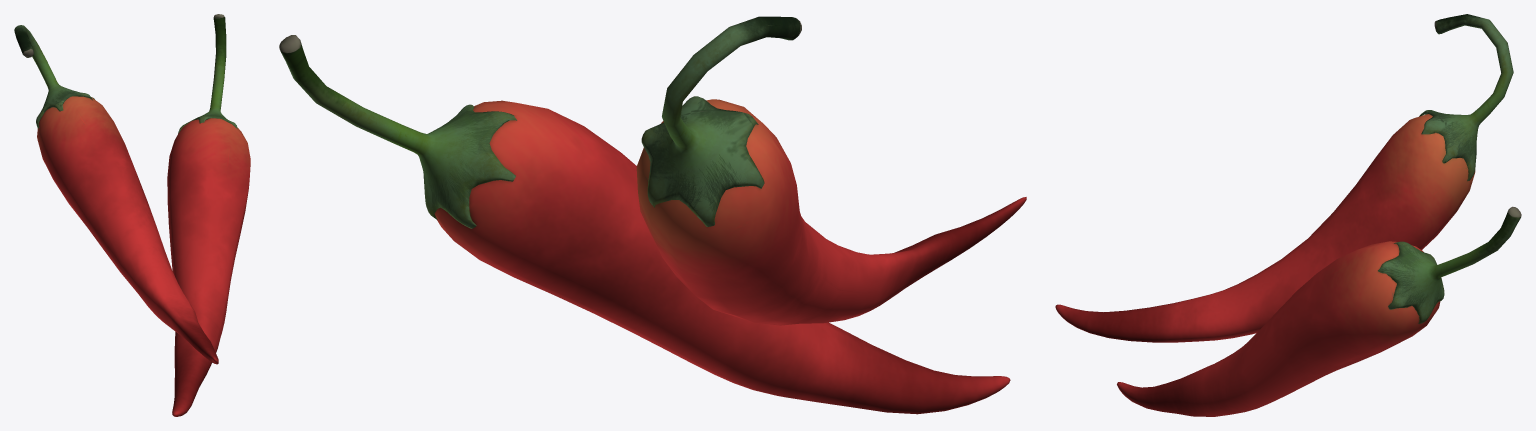
File: chili_pepper.glb
3 views of the same model, side by side, from view 1: azimuth 30°, elevation 25°; view 2: azimuth 150°, elevation 25°; view 3: azimuth 270°, elevation 25° (orthographic). The views are drawn at different scales.
Visible parts, largest first — view 1: Chili pepper1_1, Chili pepper2_2; view 2: Chili pepper2_2, Chili pepper1_1; view 3: Chili pepper1_1, Chili pepper2_2.
Boxes of the visible parts, x1,y1,x2,y2 form: Chili pepper1_1: (14,25,218,364); Chili pepper2_2: (167,14,250,416); Chili pepper2_2: (279,35,1010,414); Chili pepper1_1: (636,16,1026,325); Chili pepper1_1: (1055,14,1513,342); Chili pepper2_2: (1117,206,1521,416).
Bounding box in the file's own units: 2.48 × 3.03 × 3.44.
Materials: 1 (1 with a texture image).
